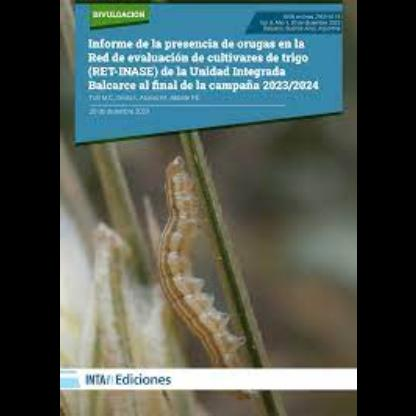oruga: (150, 158, 256, 369)
